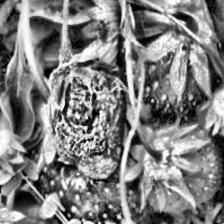Gray Mold: (45, 48, 130, 180)
